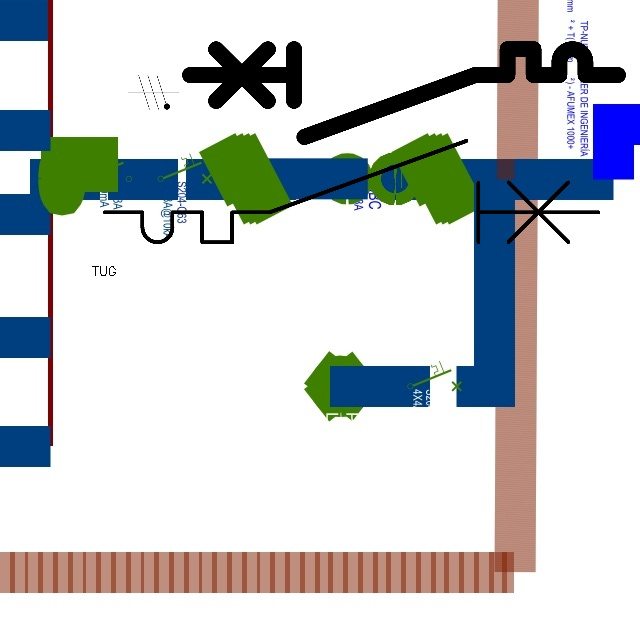interruptor_termomagnetico: (92, 128, 611, 255), (178, 38, 628, 148)
